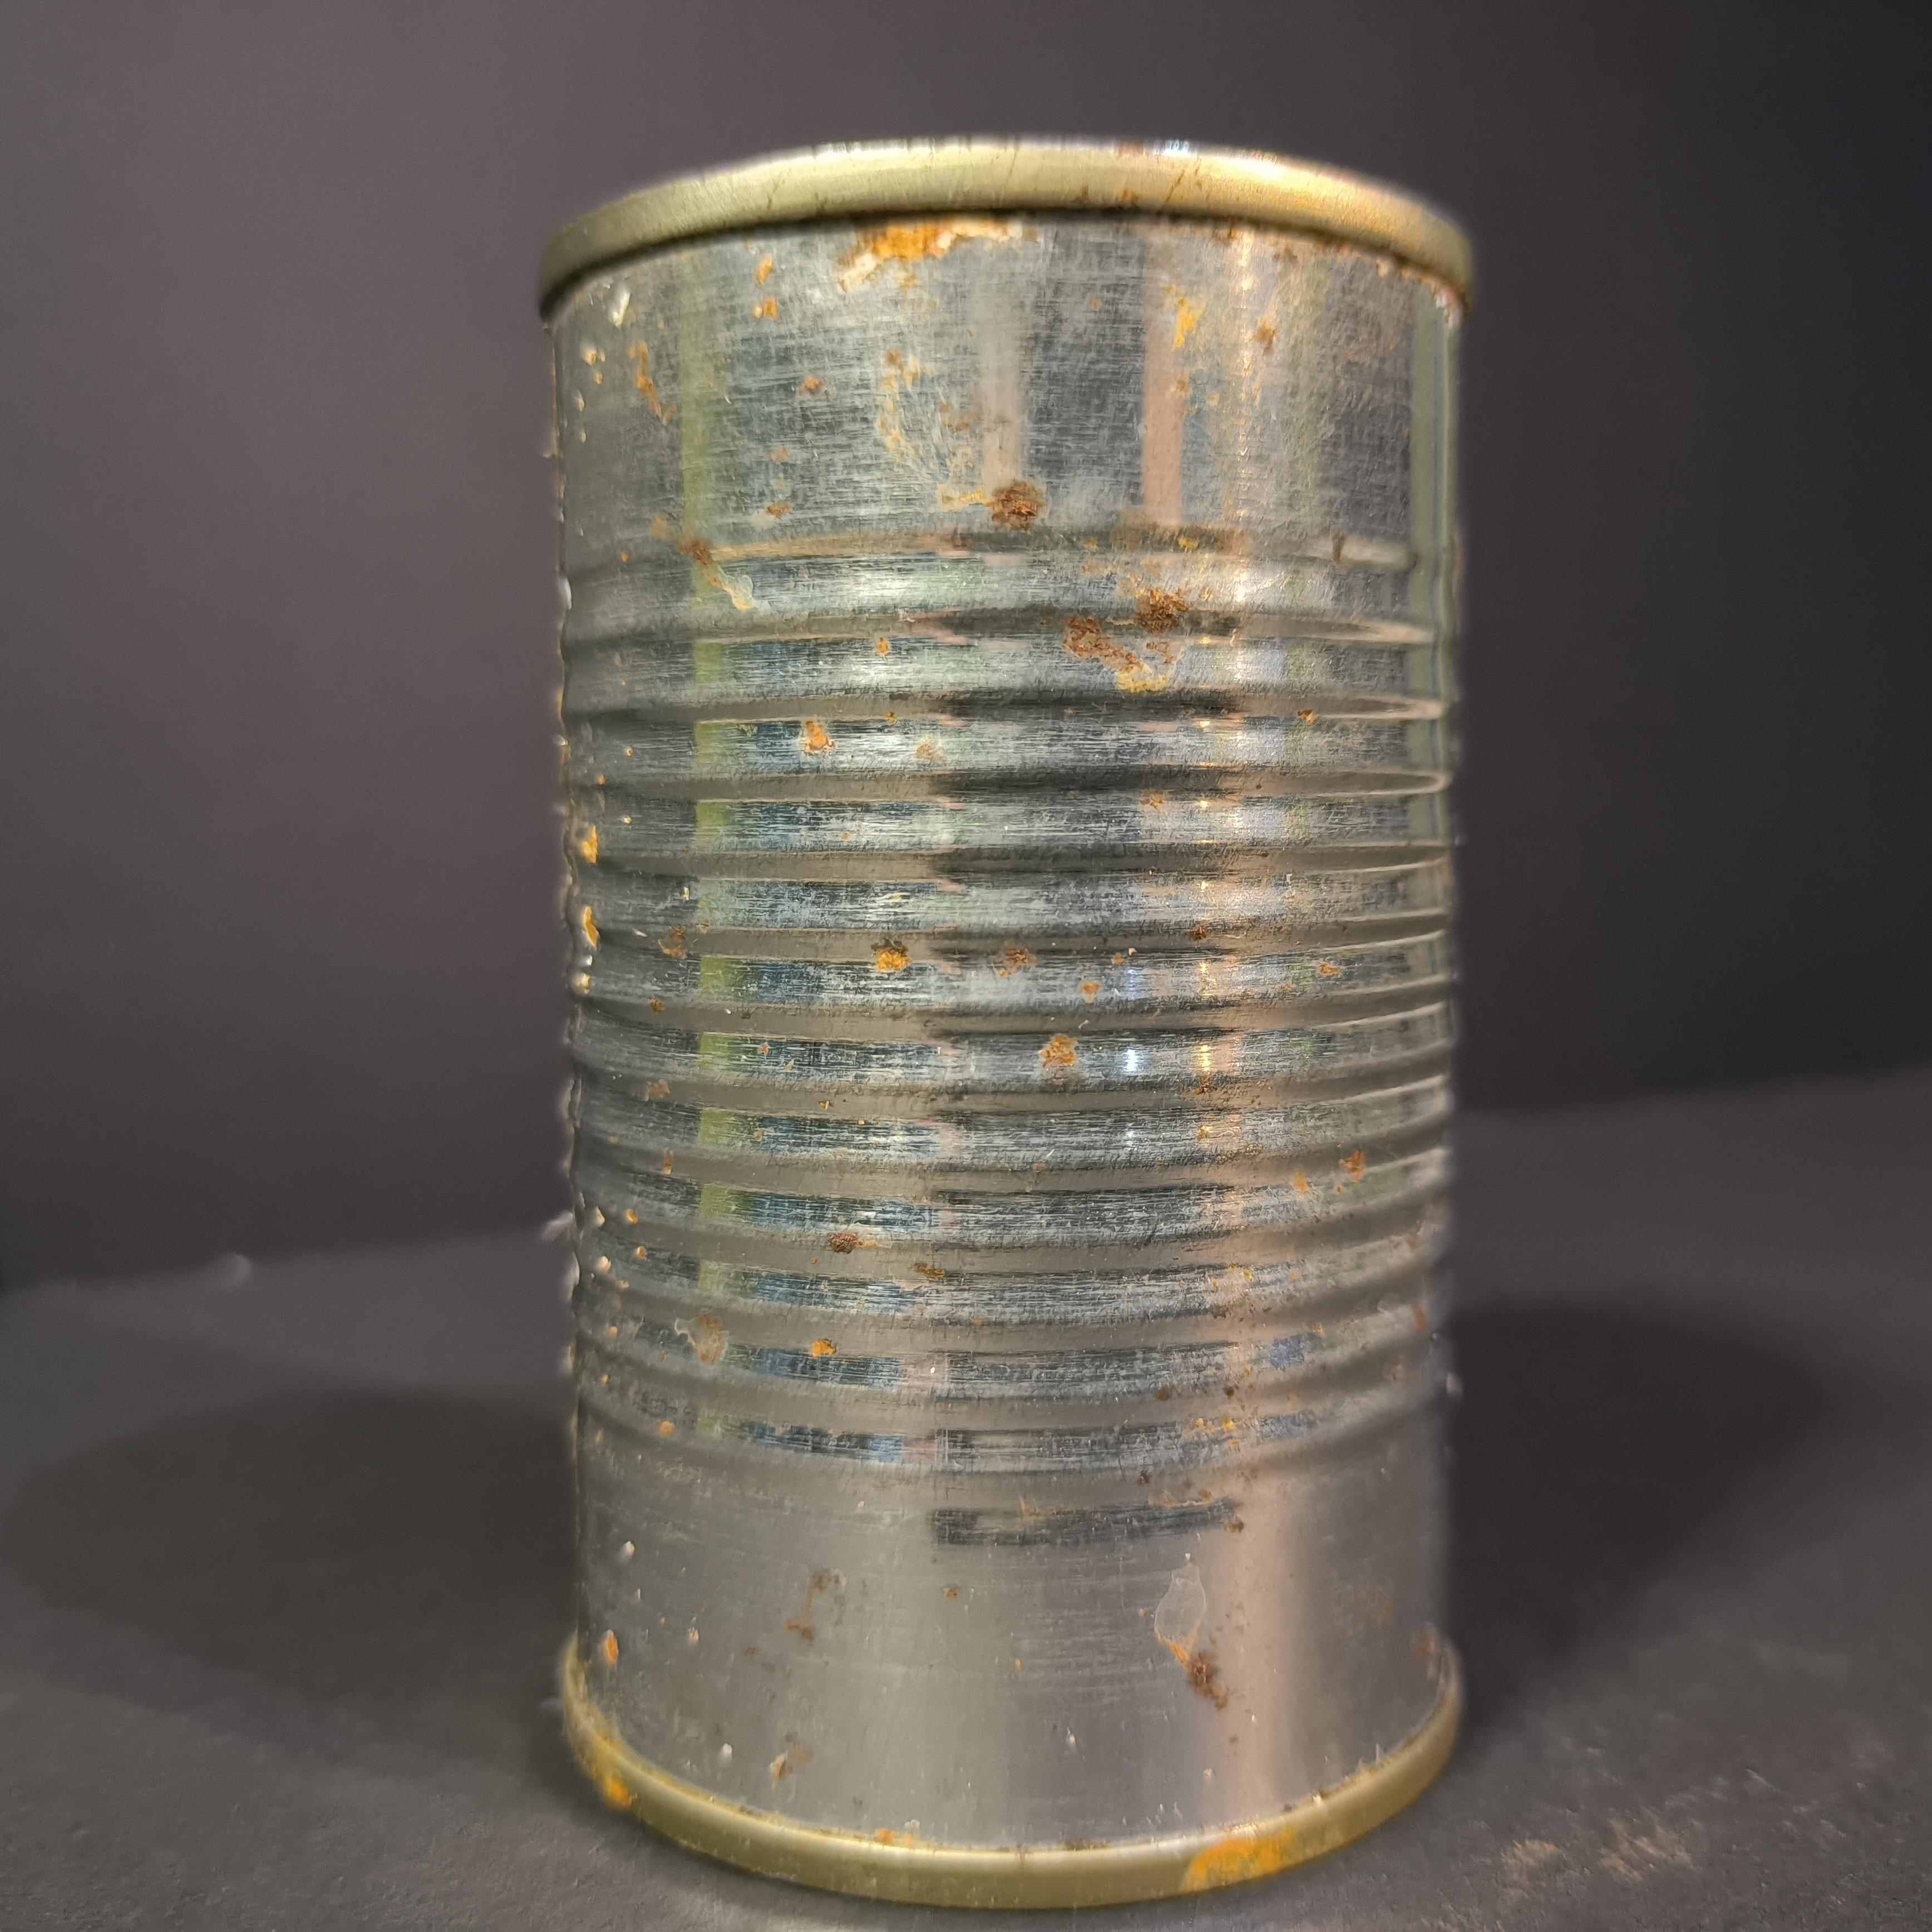Rusted: (510, 94, 1488, 1920)
